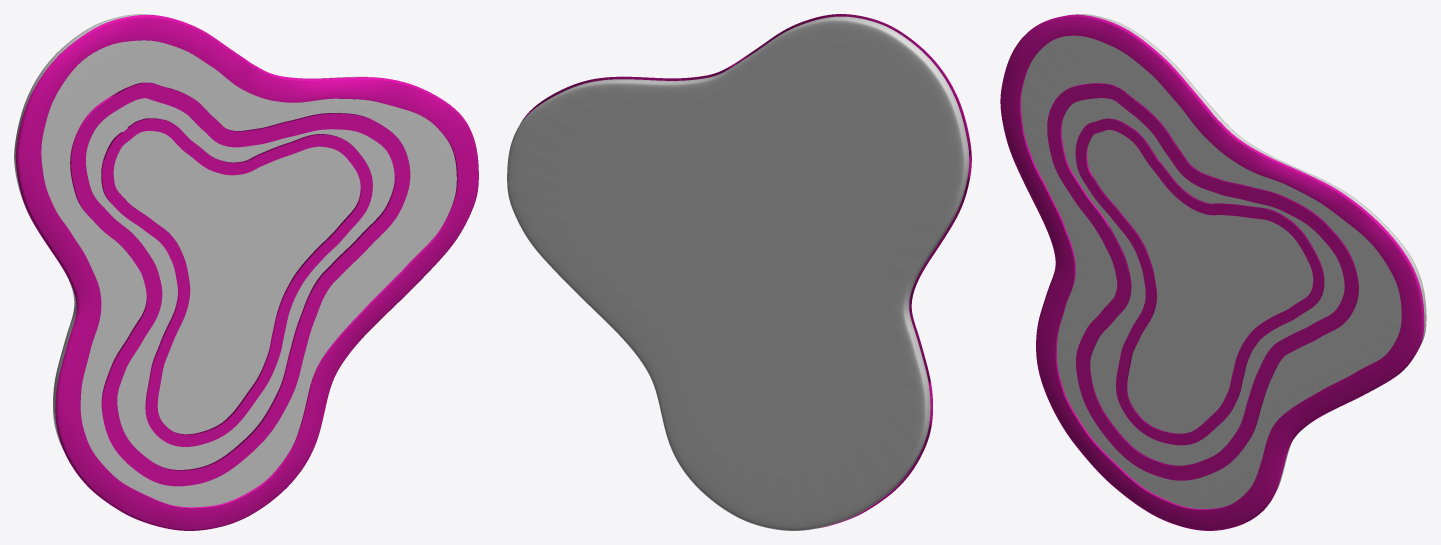
The model's file is Miroir1.fbx.
The picture shows the model from 3 angles, left to right: view 1: azimuth 30°, elevation 25°; view 2: azimuth 150°, elevation 25°; view 3: azimuth 330°, elevation 25°; orthographic projection. The views are drawn at different scales.
Parts seen in each view (by area): view 1: Plane, BézierCurve, BézierCurve.001, BézierCurve.002; view 2: Plane, BézierCurve; view 3: Plane, BézierCurve, BézierCurve.001, BézierCurve.002.
Part boxes in pixels (left/top/right/bottom): Plane: left=14, top=14, right=456, bottom=507; BézierCurve: left=15, top=15, right=478, bottom=530; BézierCurve.001: left=70, top=82, right=410, bottom=486; BézierCurve.002: left=101, top=118, right=372, bottom=446; Plane: left=507, top=16, right=969, bottom=530; BézierCurve: left=520, top=14, right=971, bottom=528; Plane: left=1021, top=14, right=1426, bottom=508; BézierCurve: left=1000, top=14, right=1424, bottom=530; BézierCurve.001: left=1047, top=83, right=1358, bottom=480; BézierCurve.002: left=1075, top=118, right=1324, bottom=445.
Bounding box in the file's own units: 211 × 233 × 6.
